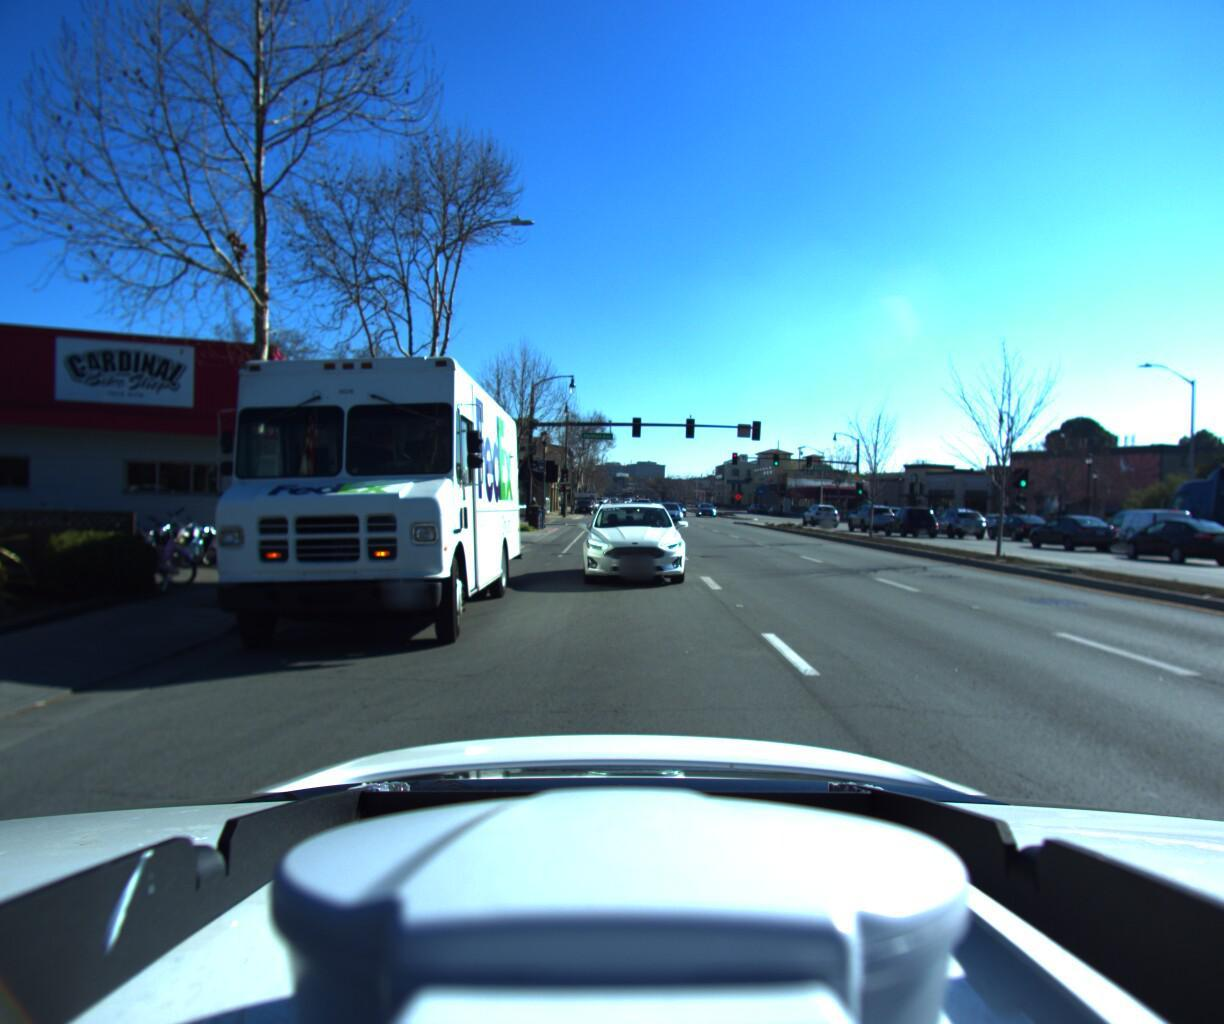bicycle: (0, 510, 52, 594), (19, 511, 70, 594), (42, 513, 91, 595), (64, 513, 110, 595), (126, 514, 165, 595), (145, 514, 181, 595), (186, 522, 243, 569), (165, 513, 188, 569)
car: (570, 499, 684, 596), (1108, 514, 1224, 565), (1083, 505, 1189, 555), (1020, 511, 1116, 550), (921, 505, 985, 538), (979, 513, 1048, 541), (880, 504, 936, 536), (843, 502, 896, 533), (800, 502, 837, 527), (656, 501, 688, 528)
truck: (159, 340, 527, 672), (1133, 458, 1224, 565)
